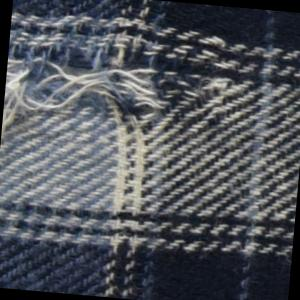Damage: (1, 1, 255, 166)
